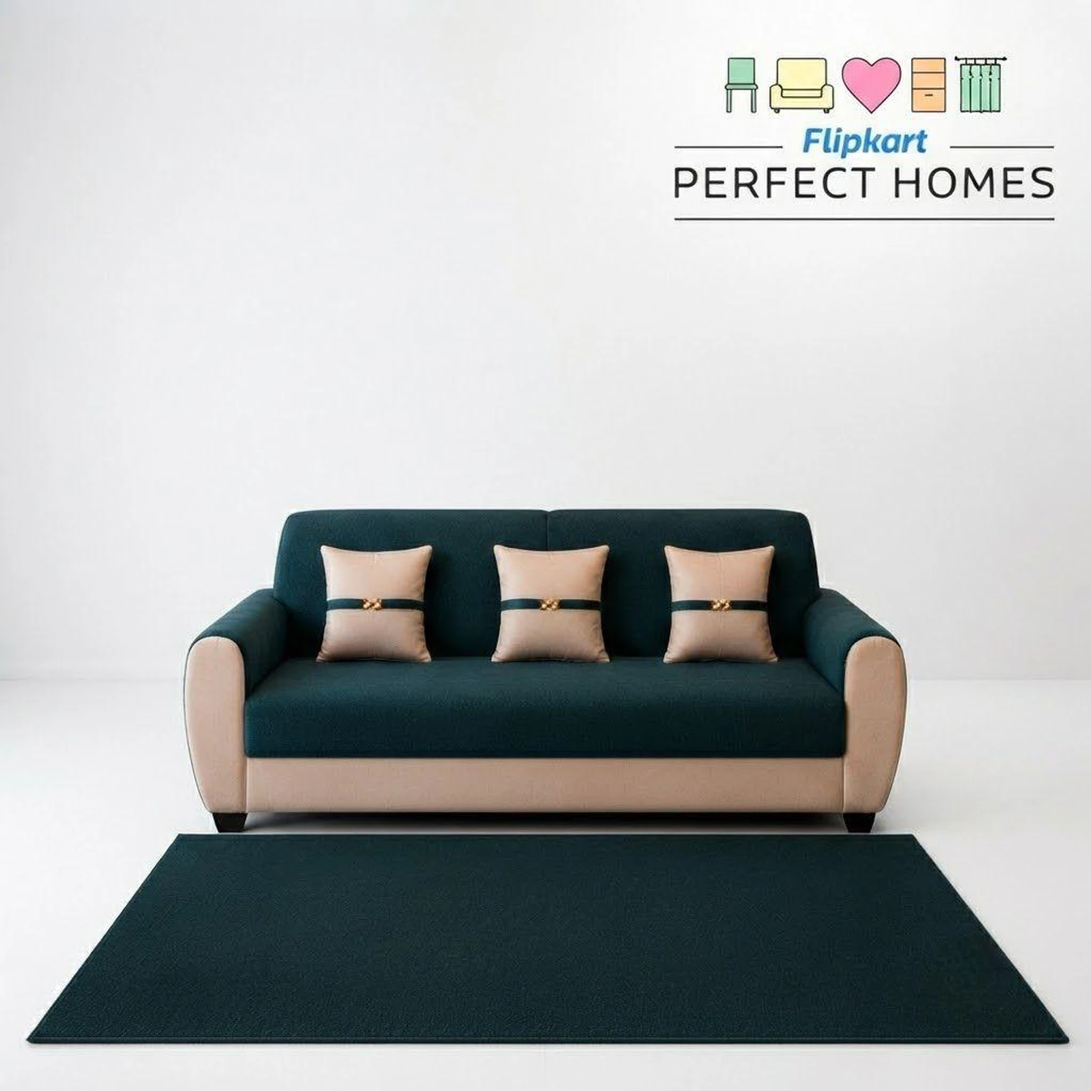3seatersofa: (185, 509, 905, 831)
backrest: (273, 508, 820, 661)
base: (247, 759, 842, 811)
leftarmrest: (804, 589, 905, 810)
leg: (212, 812, 247, 833), (843, 812, 876, 832)
pillow: (492, 544, 609, 663), (663, 545, 776, 663), (318, 545, 432, 661)
rightarmrest: (185, 589, 286, 812)
seat: (245, 657, 845, 758)
